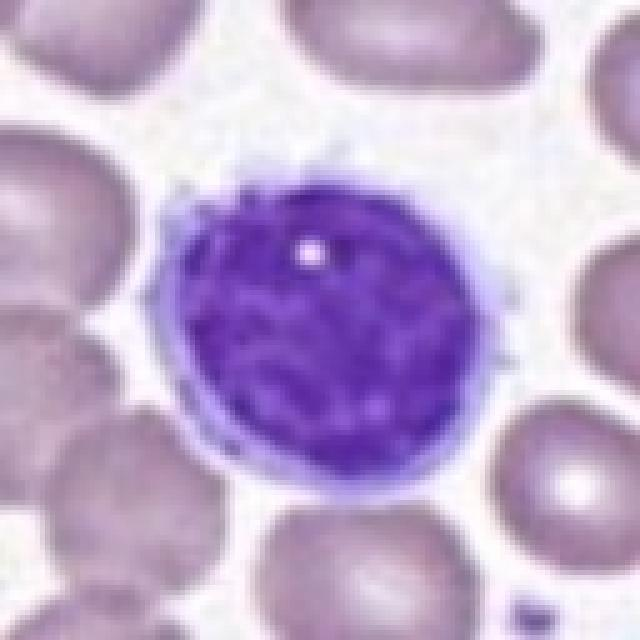lympho: (134, 121, 524, 497)
